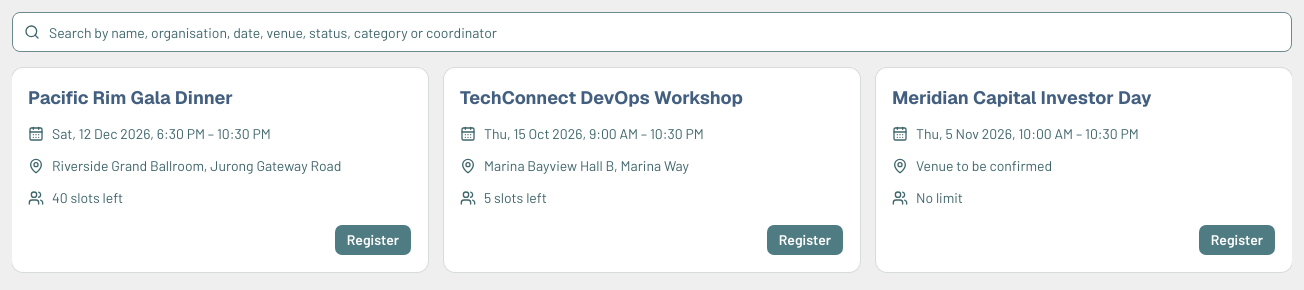
Test: SCRUM-9/AC3 event search: no matches › 9-S22: the message shows what was typed without the spaces around it
The image size is (1304, 290).
Replace the text in the search field named "Search events" with "  zebra  " at (652, 32), box [12, 12, 1292, 52]
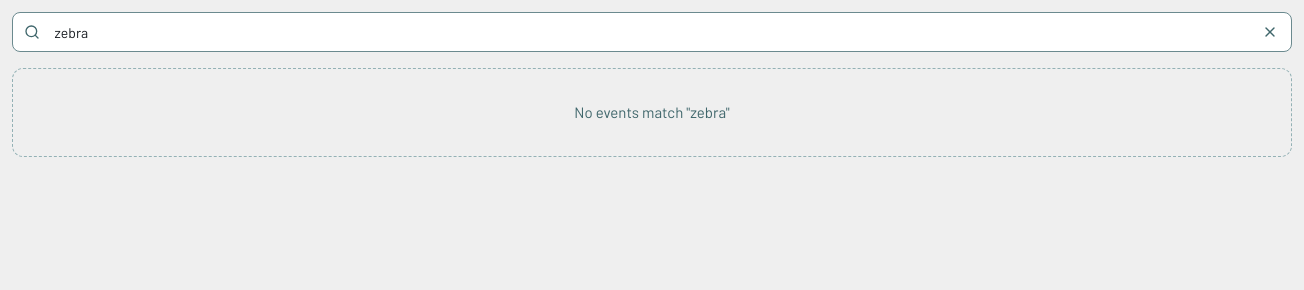
expect the text "No events match \"zebra\"" is shown: met, box [12, 68, 1292, 156]
